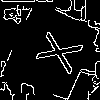X: (25, 26, 84, 75)
